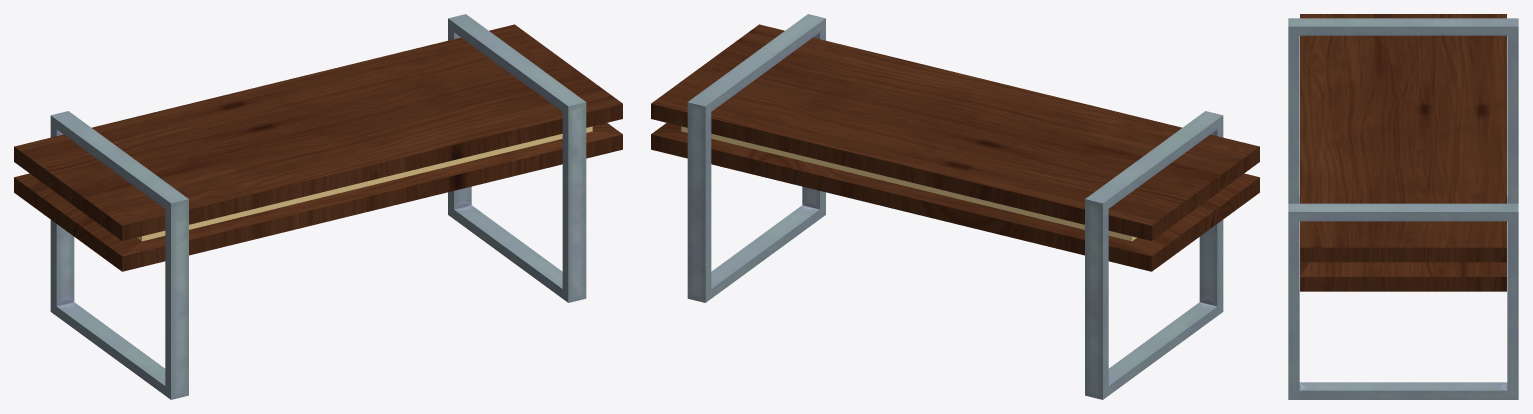
File: Bench_LP.FBX
3 views of the same model, side by side, from view 1: azimuth 30°, elevation 25°; view 2: azimuth 150°, elevation 25°; view 3: azimuth 270°, elevation 25° (orthographic). The views are drawn at different scales.
Visible parts, largest first — view 1: Bench_LP; view 2: Bench_LP; view 3: Bench_LP.
Part boxes in pixels (x1,y1,x2,y2): Bench_LP: [14, 14, 622, 399]; Bench_LP: [651, 14, 1259, 399]; Bench_LP: [1288, 14, 1518, 399].
Size of what is drawn, in the model's own units: 151 by 63 by 56.7.
